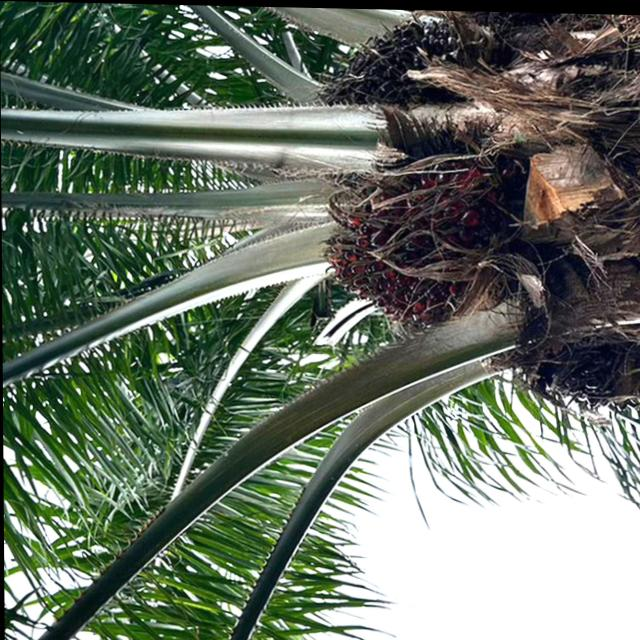ripe: (310, 158, 501, 340)
